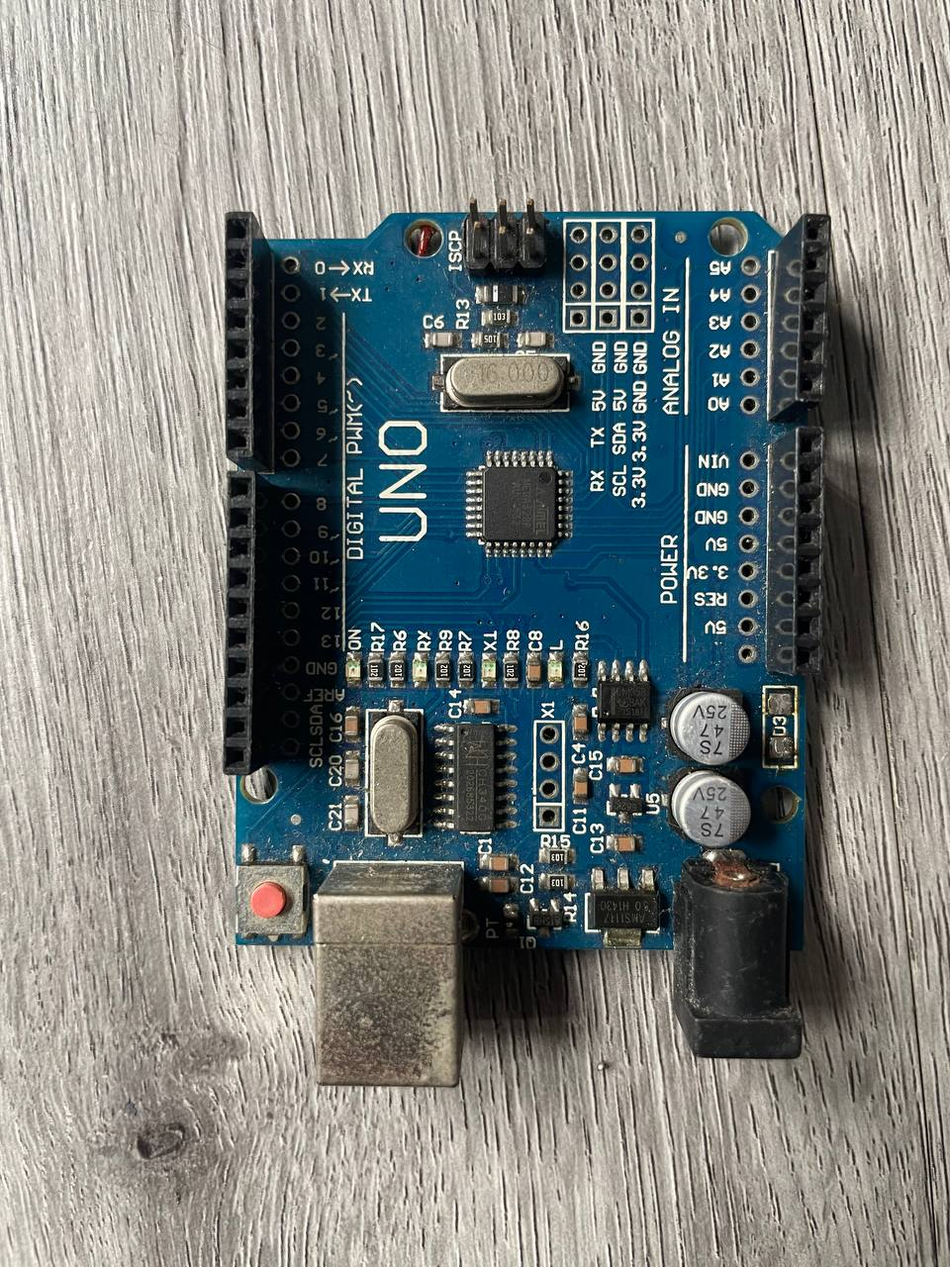missing_comp: (759, 681, 799, 771)
